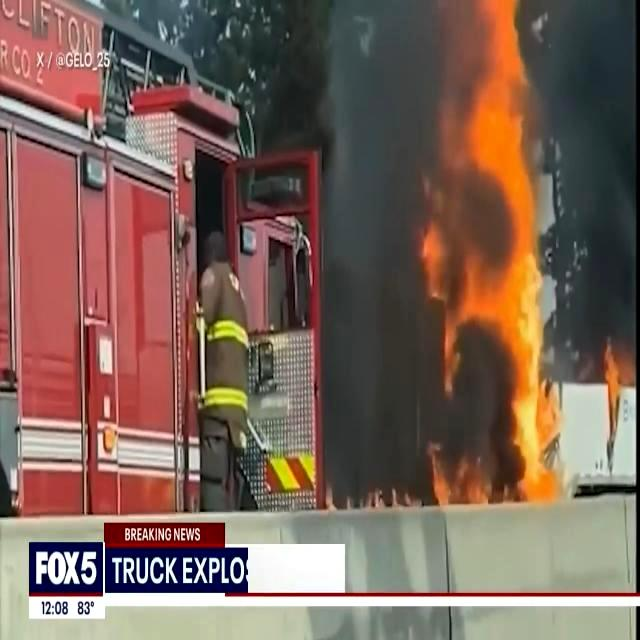fire: (420, 12, 568, 510), (262, 448, 312, 492)
